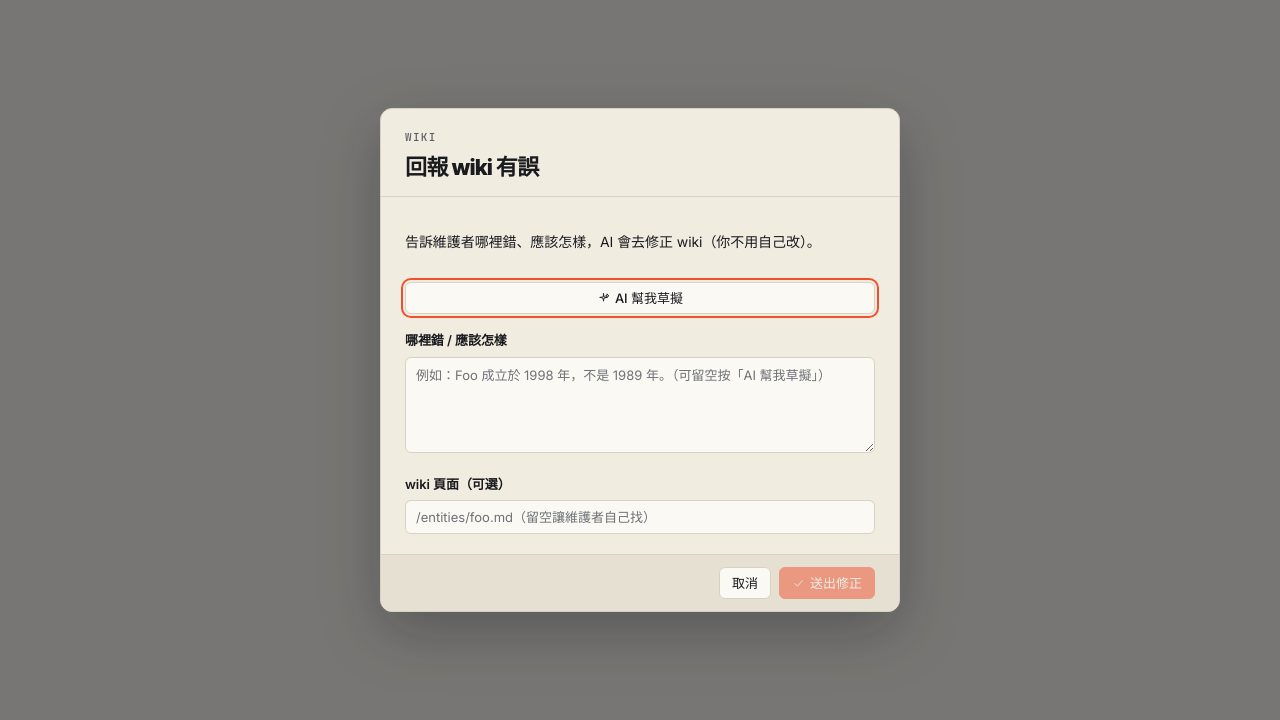
it: WikiCorrectionDialog (#397) › an 'ask' result shows clarifying questions, then folds answers into the next draft
The image size is (1280, 720).
Click the button "AI 幫我草擬": (640, 298) [405, 282, 875, 314]
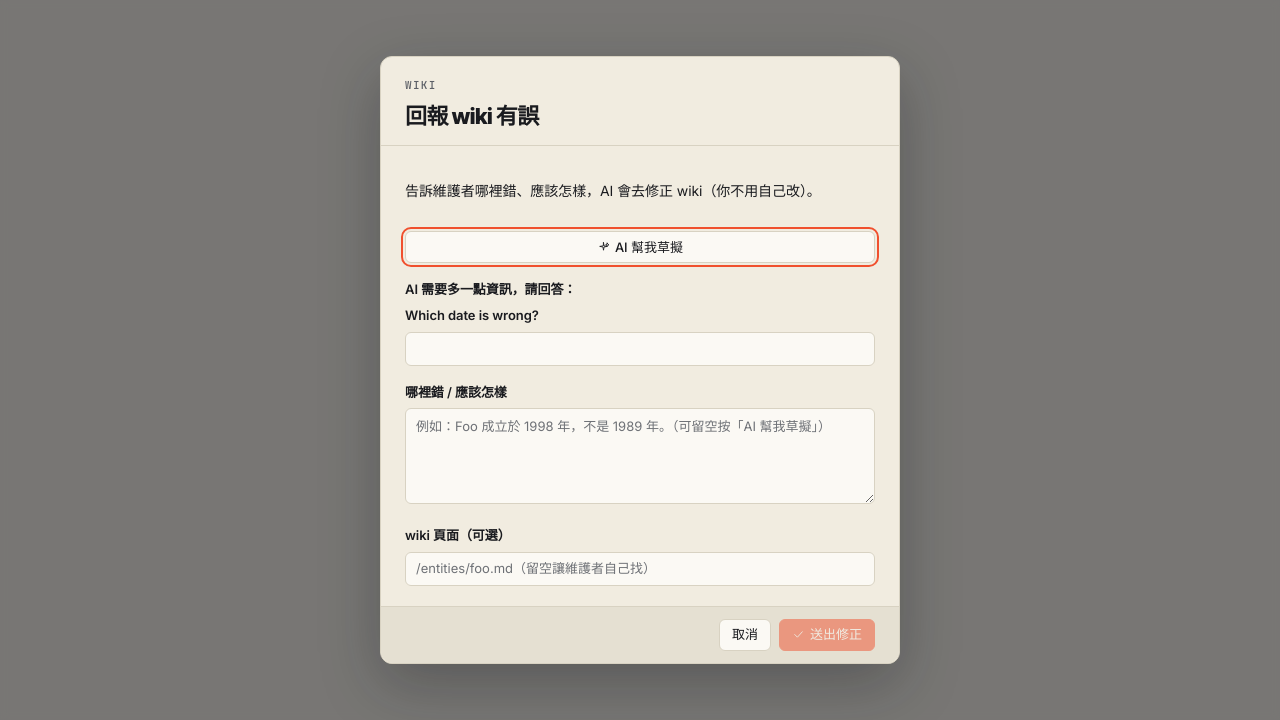
In the field labelled "Which date is wrong?": (640, 349) [405, 332, 875, 366], type "the founding year"
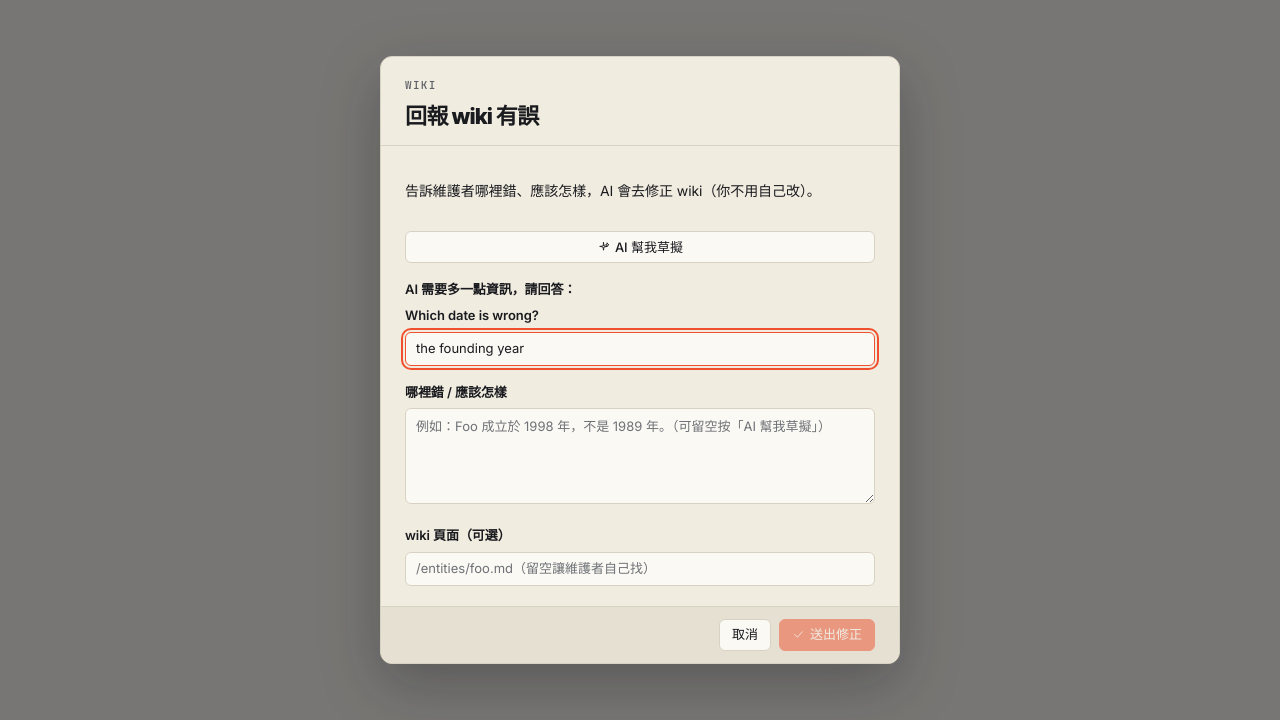
Click the button "AI 幫我草擬": (640, 247) [405, 231, 875, 263]
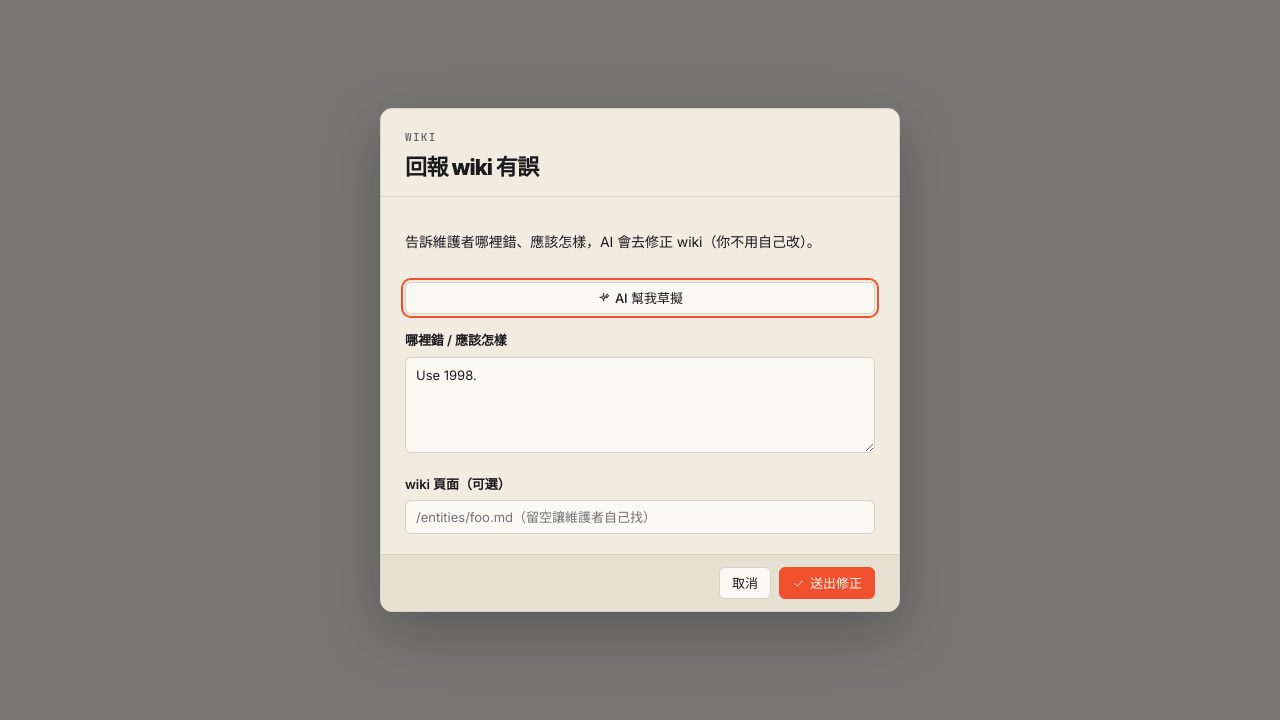
Check: the text box showing "Use 1998." is shown, box [405, 357, 875, 453]
